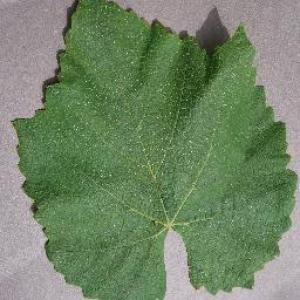Folha: (9, 0, 298, 299)
